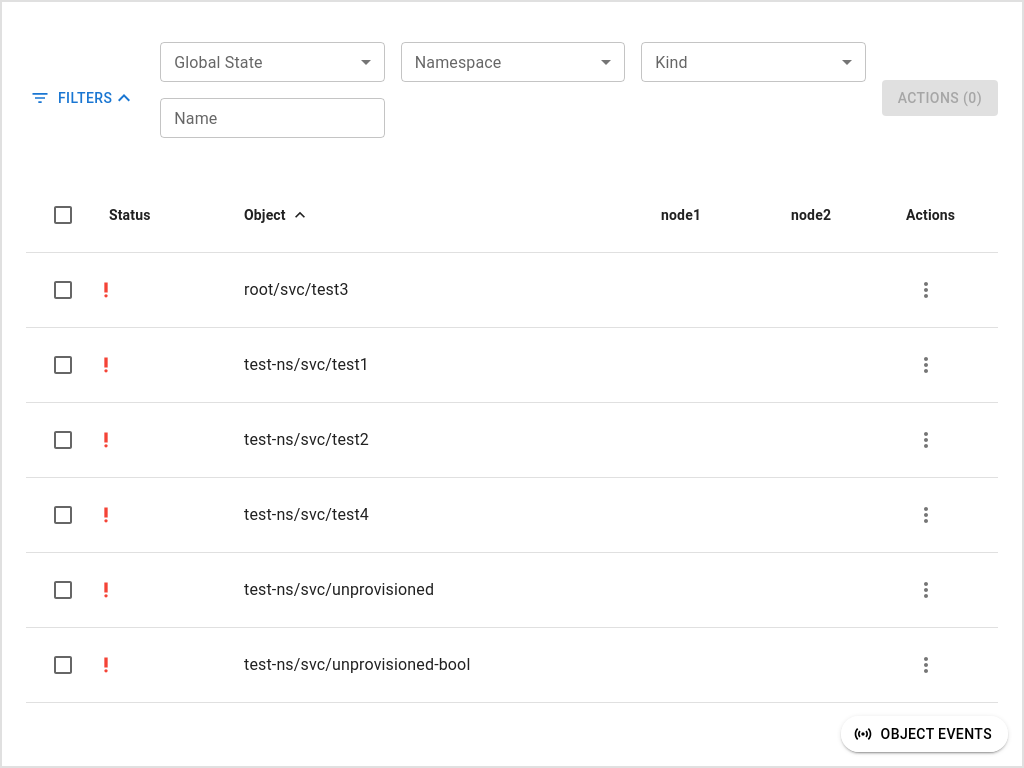
Objects Component › selection and select all
The width and height of the screenshot is (1024, 768).
Check: the dropdown named "Global State" next to "Global State" is shown, box x1=160 y1=42 x2=385 y2=82
Click the checkbox named "Select object test-ns/svc/test1" at x=63, y=365, box x1=51 y1=353 x2=75 y2=377
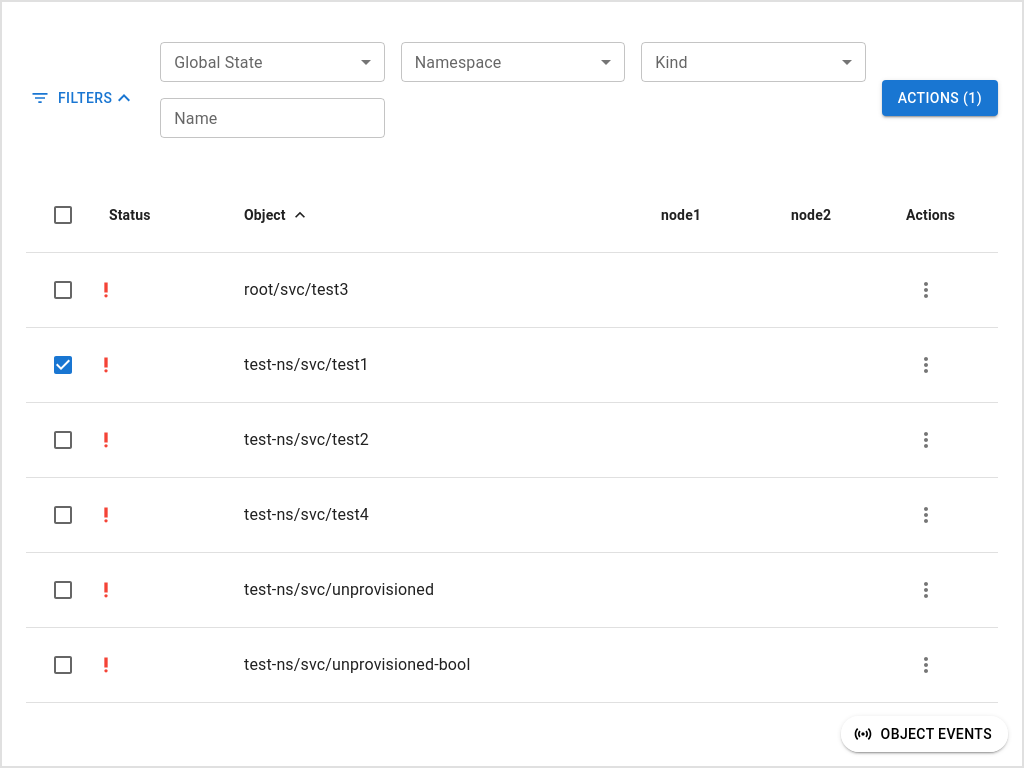
Check: the checkbox named "Select object test-ns/svc/test1" is checked, box x1=51 y1=353 x2=75 y2=377
Click the checkbox named "Select all objects" at x=63, y=215, box x1=51 y1=203 x2=75 y2=227
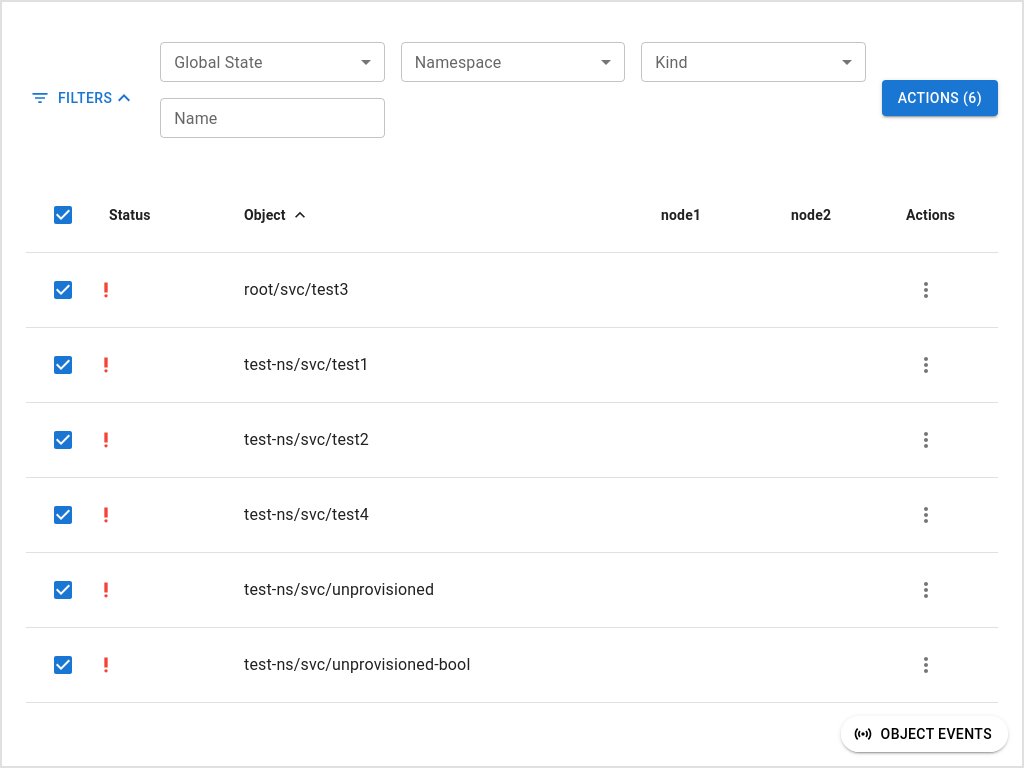
Check: the checkbox named "Select object test-ns/svc/test1" is checked, box x1=51 y1=353 x2=75 y2=377
Check: the checkbox named "Select object root/svc/test3" is checked, box x1=51 y1=278 x2=75 y2=302
Check: the checkbox named "Select object test-ns/svc/test2" is checked, box x1=51 y1=428 x2=75 y2=452
Click the checkbox named "Select all objects" at x=63, y=215, box x1=51 y1=203 x2=75 y2=227
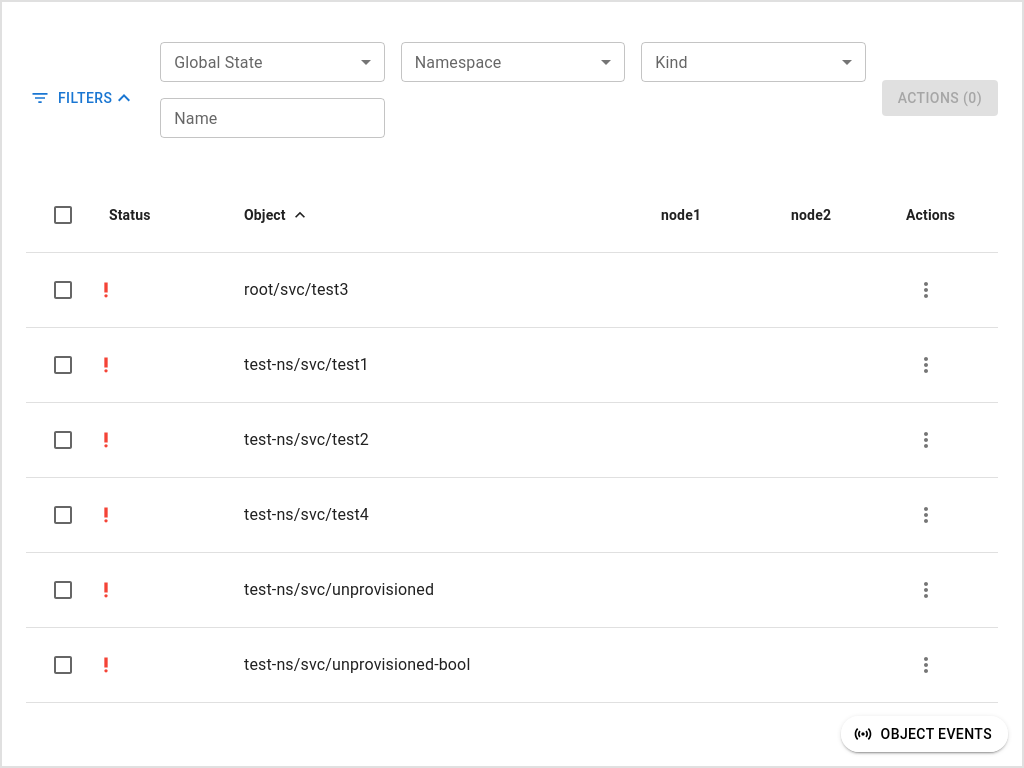
Check: the checkbox named "Select object test-ns/svc/test1" is not checked, box x1=51 y1=353 x2=75 y2=377
Check: the checkbox named "Select object root/svc/test3" is not checked, box x1=51 y1=278 x2=75 y2=302
Check: the checkbox named "Select object test-ns/svc/test2" is not checked, box x1=51 y1=428 x2=75 y2=452
